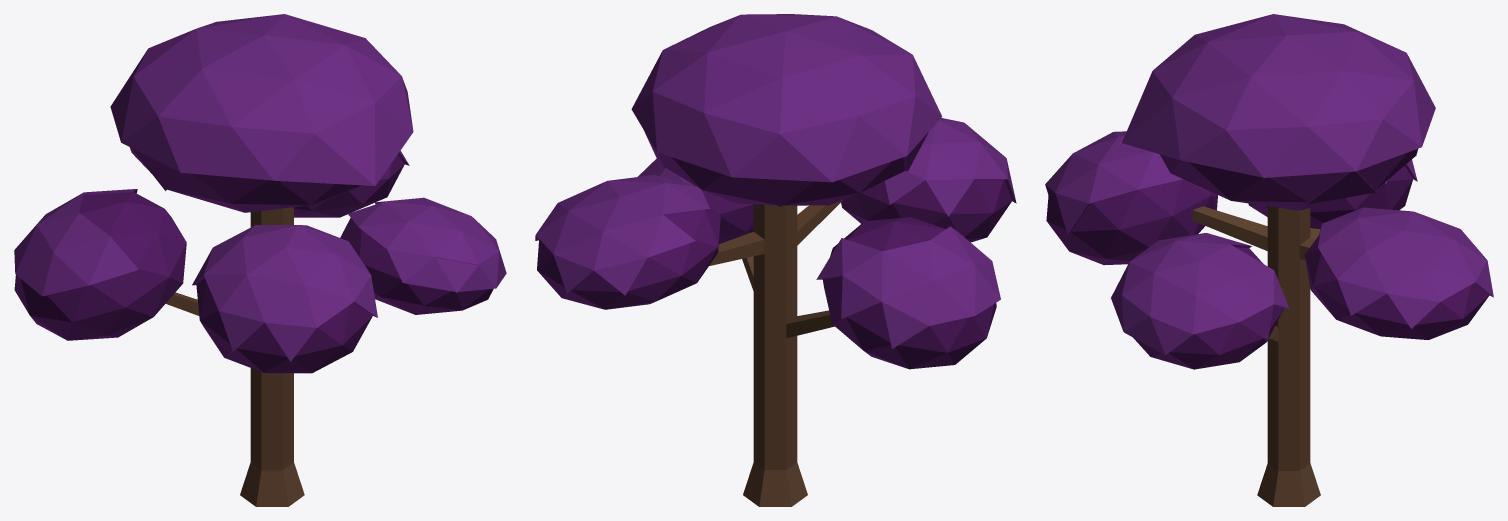
The model's file is purple_tree (1).fbx.
The picture shows the model from 3 angles, left to right: view 1: azimuth 30°, elevation 25°; view 2: azimuth 150°, elevation 25°; view 3: azimuth 270°, elevation 25°; orthographic projection. The views are drawn at different scales.
Visible parts, largest first — view 1: Default Tree.002; view 2: Default Tree.002; view 3: Default Tree.002.
Part boxes in pixels (left/top/right/bottom): Default Tree.002: left=14, top=14, right=506, bottom=506; Default Tree.002: left=535, top=14, right=1016, bottom=506; Default Tree.002: left=1045, top=14, right=1493, bottom=506.
Bounding box in the file's own units: 858 × 939 × 838.
